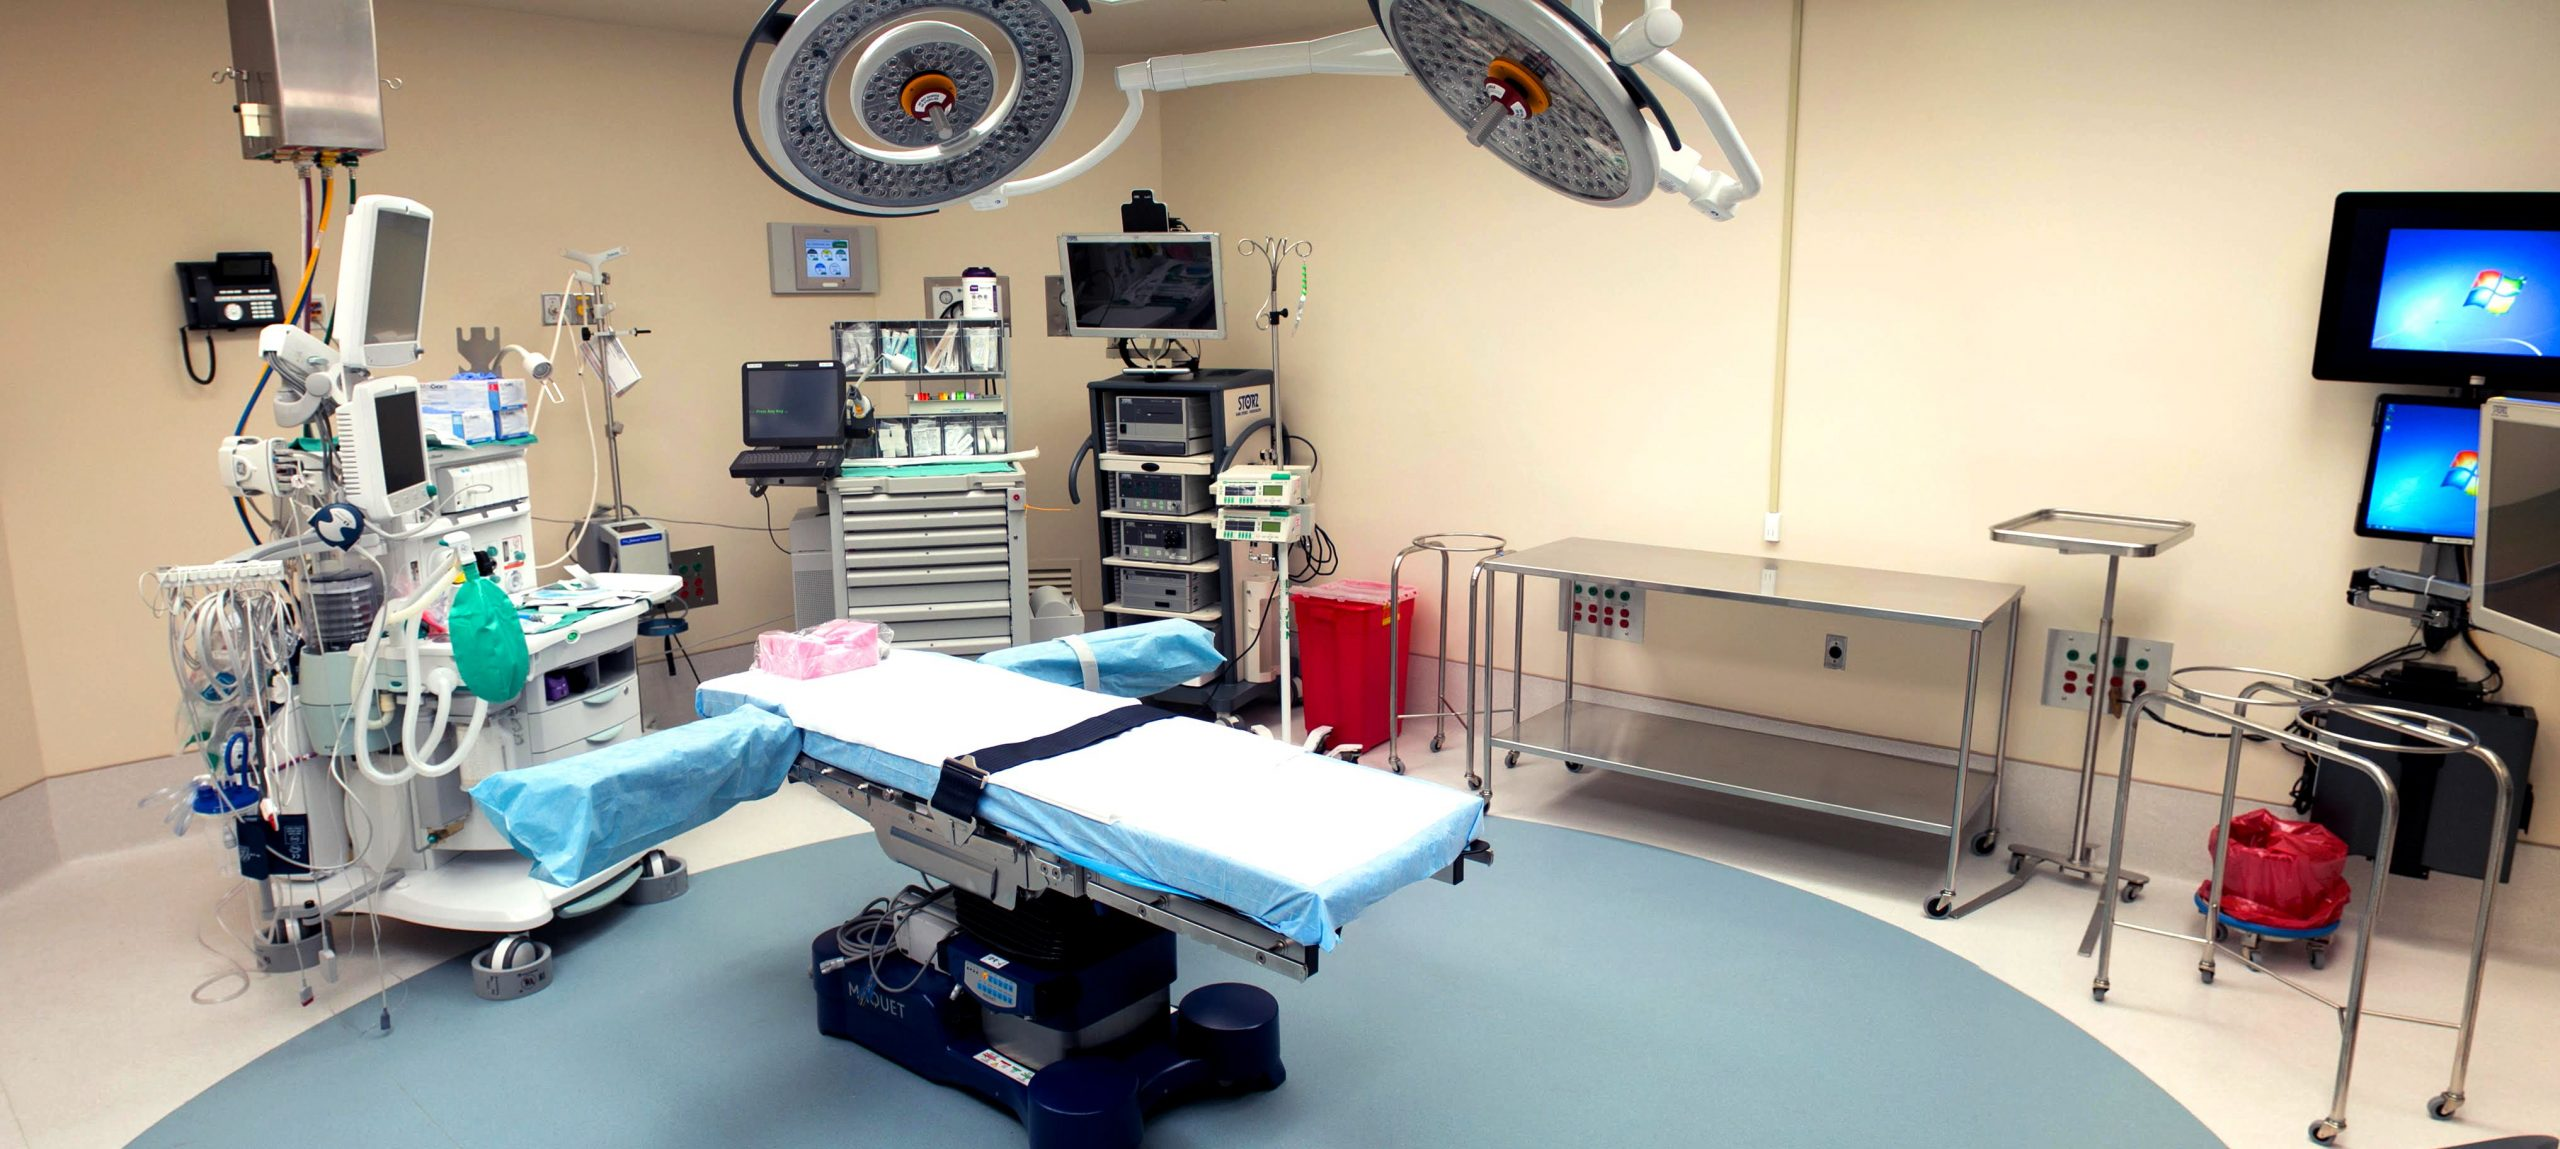bedside_monitor: (2467, 397, 2560, 659), (1060, 228, 1224, 349), (341, 194, 429, 351), (359, 397, 431, 512)
breathing_tube: (349, 550, 487, 792)
computer: (2317, 191, 2560, 397), (2354, 392, 2560, 539), (736, 361, 852, 447)
handle: (581, 716, 630, 746), (581, 679, 624, 708)
iv_pole: (532, 248, 668, 671), (1238, 233, 1313, 464)
keyboard: (730, 447, 847, 477)
medical_drawer: (833, 268, 1019, 650)
operating_bed: (475, 619, 1487, 1149)
surgical_light: (1360, 2, 1765, 214), (749, 2, 1087, 215)
syringe_pump: (1203, 508, 1326, 548), (1200, 472, 1322, 512)
telephone: (167, 248, 299, 348)
utility_cart: (1473, 532, 2029, 929), (2126, 677, 2495, 1126), (1972, 486, 2201, 904)
waste_bin: (2202, 814, 2349, 968), (1290, 571, 1411, 751)
